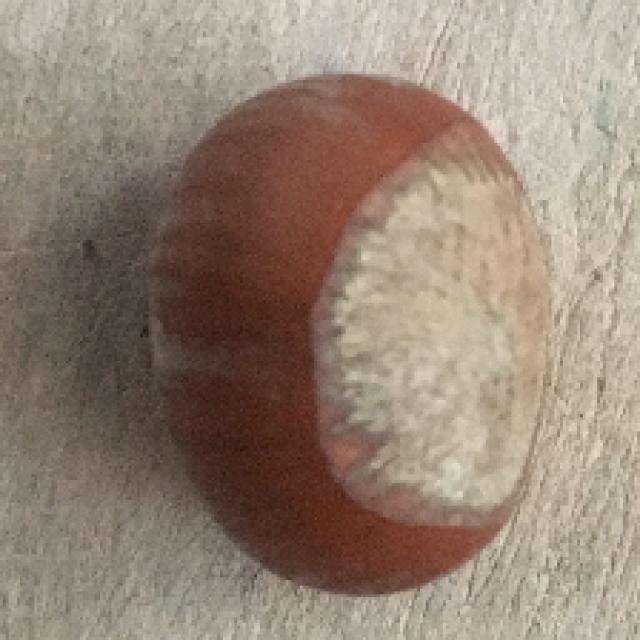qualityHazelnut: (155, 72, 551, 598)
